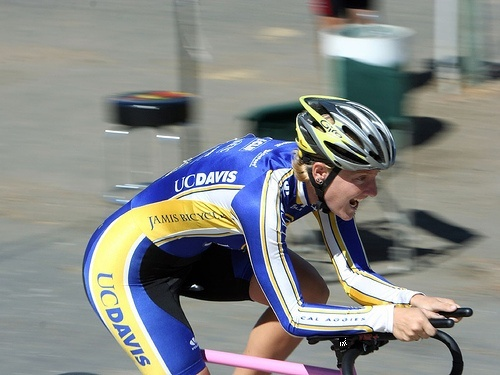car: (195, 302, 483, 375)
person: (75, 88, 466, 375)
person/hand: (410, 293, 464, 325), (395, 306, 436, 343)
person/head: (293, 96, 398, 223)
